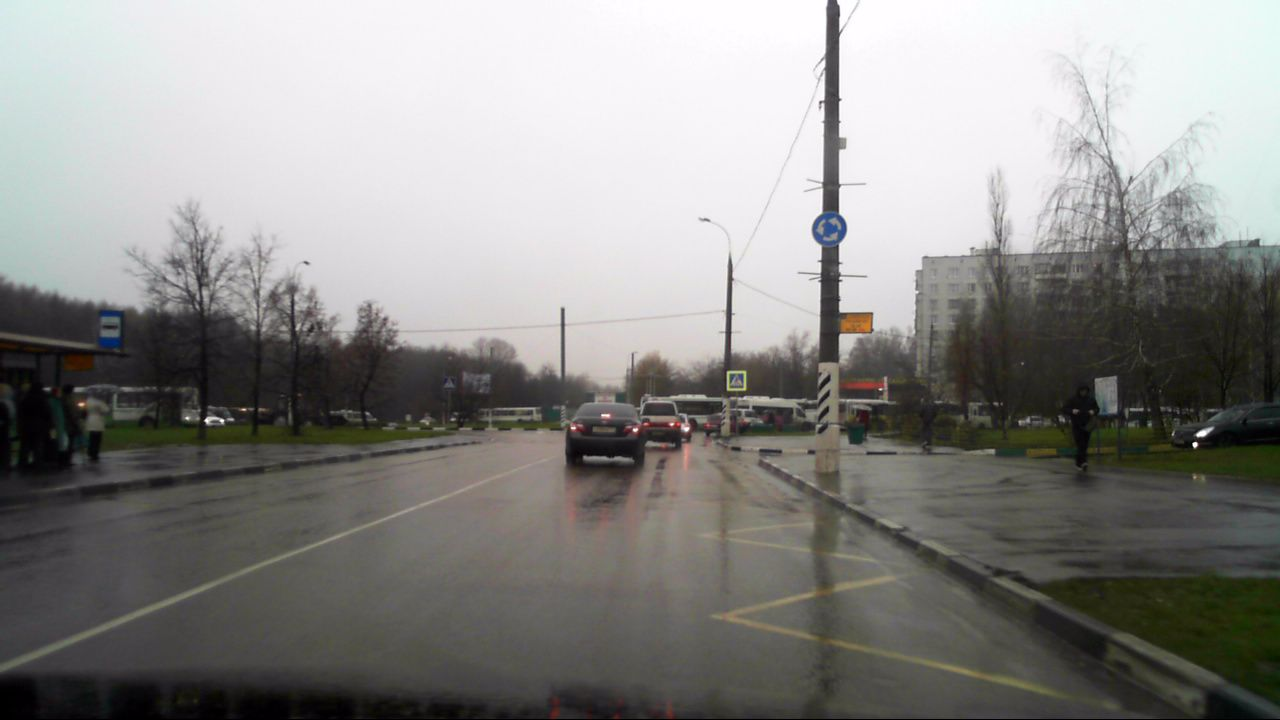Round-About: (811, 212, 847, 247)
